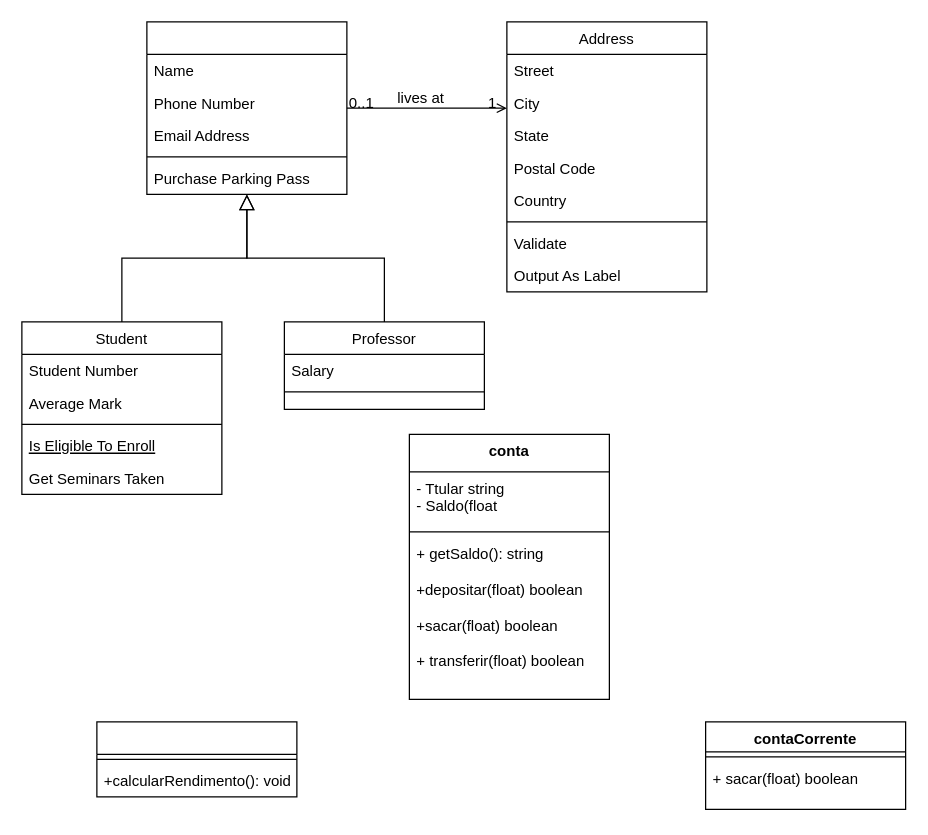
Some shapes in this 928 by 835 pixel diagram are drawn without their labels. Each missing label, with the box of its shape:
contaPoupanca: (96, 721, 297, 797)
Person: (146, 21, 347, 194)
